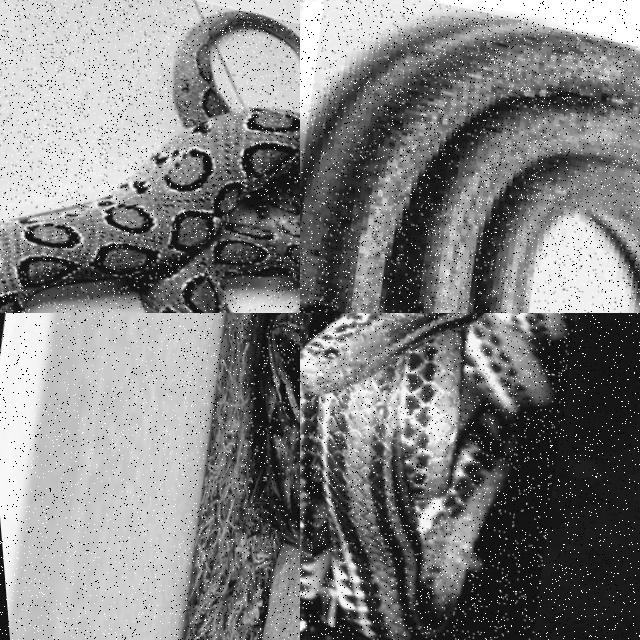Calliophis intestinalis: (300, 313, 574, 639)
Calliophis maculiceps: (300, 23, 639, 312)
Calloselasma rhodostoma: (254, 313, 299, 544)
Daboia siamensis: (0, 10, 299, 312)
snake: (300, 23, 639, 312), (0, 10, 299, 312), (300, 313, 574, 639), (254, 313, 299, 544)
